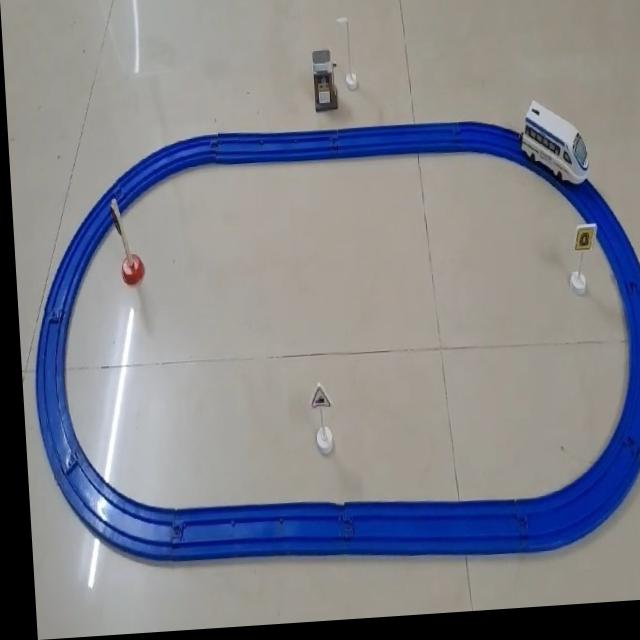bus: (516, 102, 588, 196)
